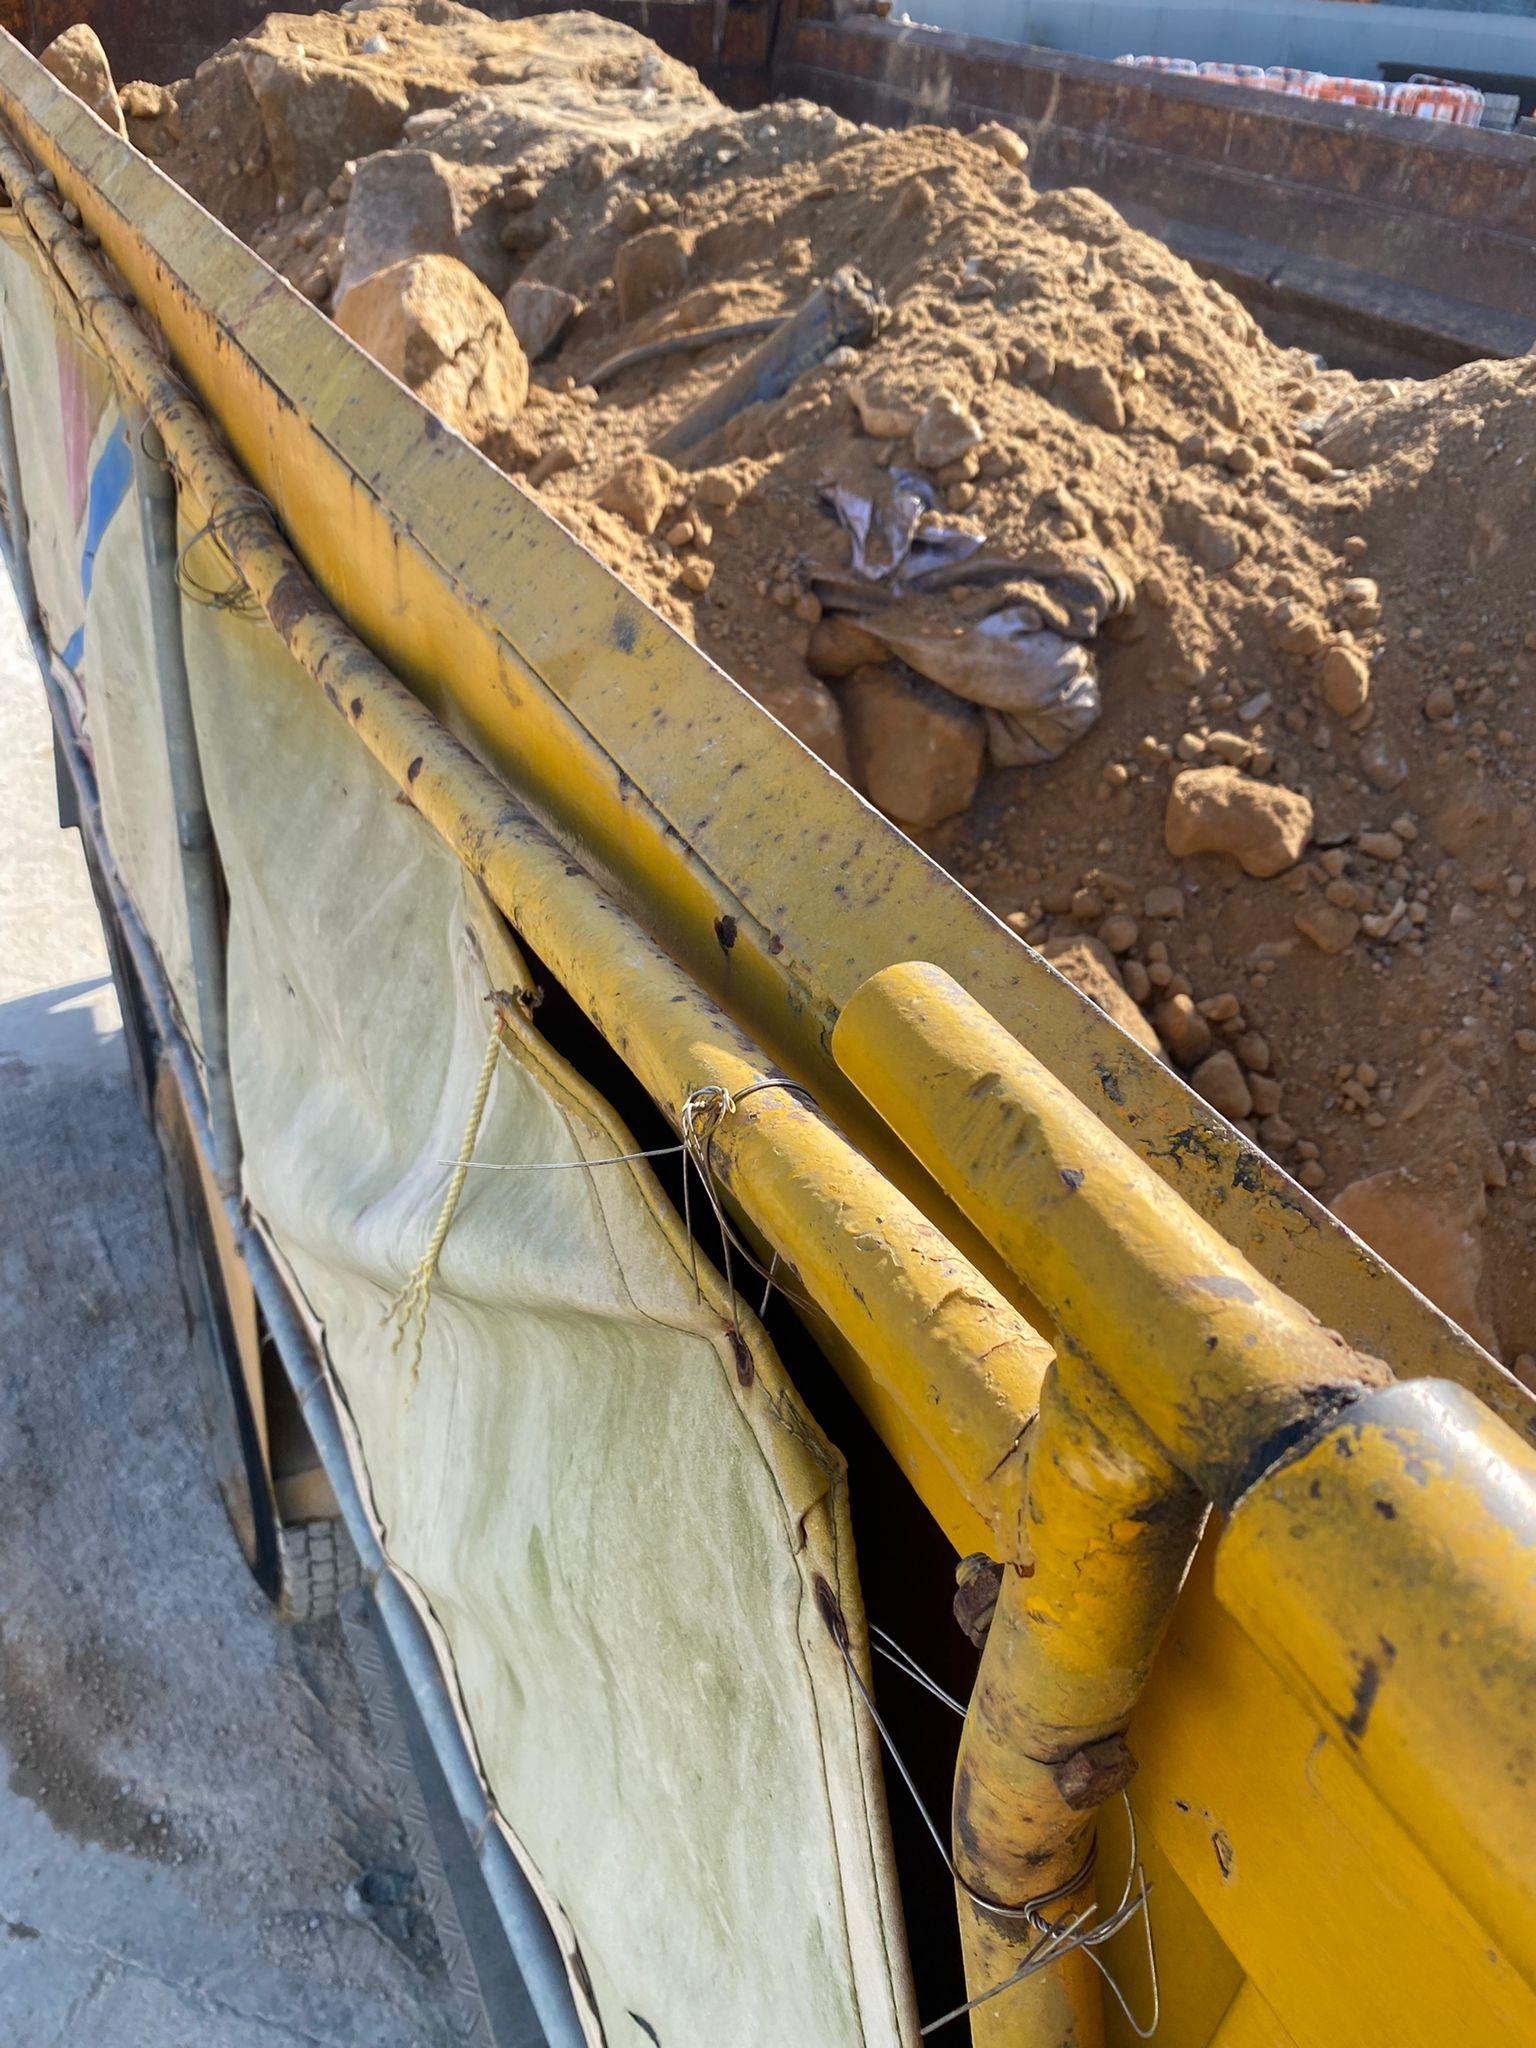dirt: (140, 3, 1536, 1363)
stone: (331, 252, 529, 447), (836, 656, 987, 827), (1162, 763, 1313, 877), (35, 21, 127, 140), (1317, 643, 1370, 716)
